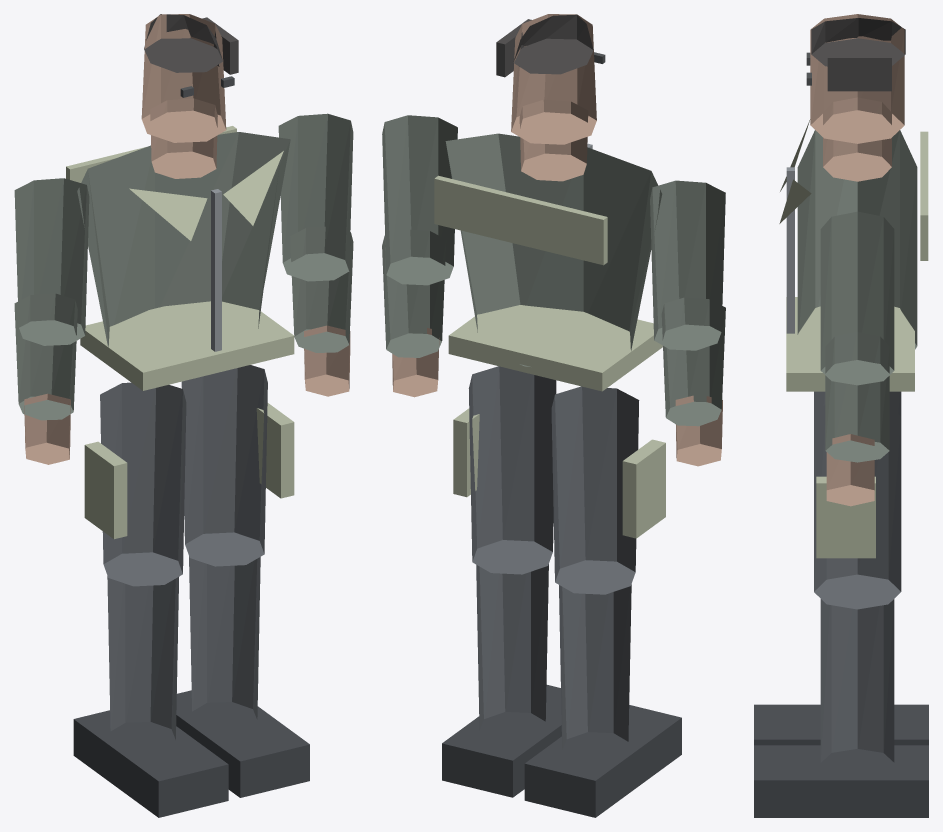
The model's file is mystery_character_moss.glb.
3 renders of one model, left to right at view 1: azimuth 30°, elevation 25°; view 2: azimuth 150°, elevation 25°; view 3: azimuth 270°, elevation 25°, orthographic. The views are drawn at different scales.
Parts seen in each view (by area): view 1: Jacket, Thigh.R, Thigh.L, Hem, Shoe.L, UpperArm.R, UpperArm.L, Shin.R, Shin.L, Shoe.R, Head, Forearm.L (+11 smaller); view 2: Jacket, Thigh.R, Thigh.L, Hem, Shoe.L, UpperArm.L, Shin.L, Shin.R, UpperArm.R, BackYoke, Shoe.R, Forearm.L (+9 smaller); view 3: Shoe.R, Jacket, Shin.R, UpperArm.R, Thigh.R, Forearm.R, Head, Hem, Shoe.L, Pocket.R, Neck, Hair (+6 smaller).
Part boxes in pixels (left/top/right/bottom): Jacket: left=77, top=132, right=290, bottom=347; Thigh.R: left=181, top=365, right=267, bottom=566; Thigh.L: left=100, top=382, right=186, bottom=586; Hem: left=80, top=301, right=294, bottom=390; Shoe.L: left=73, top=710, right=228, bottom=817; UpperArm.R: left=278, top=113, right=353, bottom=281; UpperArm.L: left=14, top=178, right=89, bottom=345; Shin.R: left=189, top=556, right=260, bottom=719; Shin.L: left=107, top=576, right=178, bottom=739; Shoe.R: left=176, top=690, right=309, bottom=797; Head: left=141, top=14, right=226, bottom=142; Forearm.L: left=14, top=293, right=77, bottom=420; Jacket: left=445, top=133, right=662, bottom=366; Thigh.R: left=468, top=366, right=556, bottom=574; Thigh.L: left=551, top=386, right=639, bottom=594; Hem: left=448, top=305, right=662, bottom=391; Shoe.L: left=524, top=705, right=681, bottom=817; UpperArm.L: left=650, top=180, right=725, bottom=350; Shin.L: left=559, top=584, right=631, bottom=749; Shin.R: left=476, top=564, right=548, bottom=730; UpperArm.R: left=382, top=115, right=457, bottom=285; BackYoke: left=434, top=175, right=607, bottom=265; Shoe.R: left=442, top=685, right=561, bottom=797; Forearm.L: left=661, top=297, right=725, bottom=426; Shoe.R: left=754, top=745, right=928, bottom=817; Jacket: left=797, top=130, right=917, bottom=349; Shin.R: left=820, top=599, right=894, bottom=762; UpperArm.R: left=820, top=211, right=894, bottom=385; Thigh.R: left=814, top=404, right=901, bottom=609; Forearm.R: left=825, top=332, right=889, bottom=462; Head: left=810, top=14, right=904, bottom=143; Hem: left=786, top=297, right=914, bottom=391; Shoe.L: left=754, top=704, right=928, bottom=745; Pocket.R: left=816, top=476, right=875, bottom=558; Neck: left=823, top=97, right=891, bottom=181; Hair: left=811, top=18, right=905, bottom=66.
Size of the model in its own units: 0.86 by 1.8 by 0.38.
